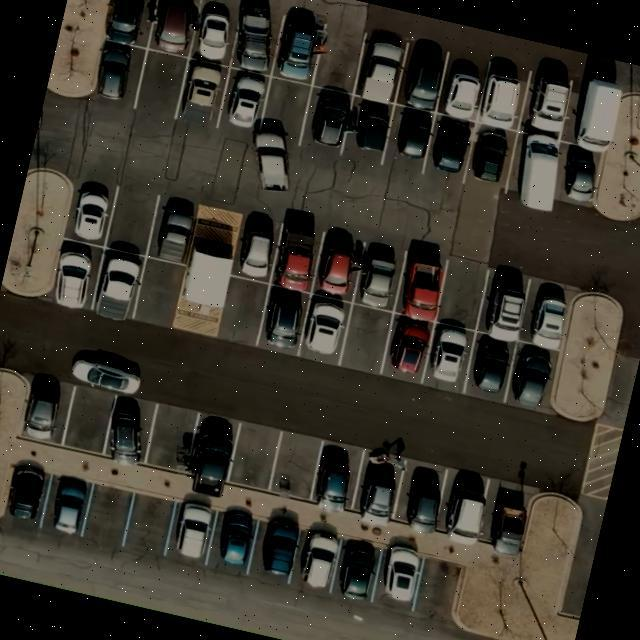space-empty: (140, 402, 200, 482), (308, 18, 369, 96), (264, 430, 326, 501), (102, 180, 160, 255), (434, 256, 492, 330), (338, 302, 396, 374), (256, 76, 312, 150), (132, 49, 188, 122), (119, 490, 176, 560), (61, 383, 116, 455), (214, 274, 270, 344), (409, 556, 465, 624), (132, 256, 186, 325), (80, 481, 134, 550), (227, 423, 280, 493)
space-occupied: (561, 69, 625, 152), (504, 130, 568, 211), (434, 468, 496, 550), (516, 62, 580, 140), (267, 214, 326, 294), (268, 10, 330, 86), (348, 236, 409, 312), (390, 458, 450, 535), (182, 411, 242, 488), (223, 0, 284, 75), (356, 28, 412, 108), (87, 247, 148, 320), (305, 438, 365, 512), (283, 530, 348, 598), (348, 448, 406, 524), (294, 292, 354, 365), (474, 58, 534, 131), (482, 476, 538, 554), (372, 540, 431, 614), (474, 267, 532, 342), (228, 209, 286, 284), (174, 58, 232, 132), (328, 532, 384, 608), (247, 512, 306, 584), (392, 40, 450, 112), (86, 38, 146, 107), (310, 235, 370, 304), (394, 246, 449, 321), (420, 320, 477, 392), (48, 238, 105, 310), (100, 394, 157, 466), (422, 113, 478, 186), (206, 505, 262, 578), (66, 175, 120, 250), (461, 122, 518, 192), (517, 277, 574, 347), (380, 313, 437, 382), (255, 284, 310, 354), (434, 52, 489, 122), (187, 0, 244, 67), (17, 373, 70, 445), (461, 334, 517, 402), (40, 472, 96, 540), (146, 197, 202, 265), (166, 496, 220, 566), (299, 86, 355, 152), (552, 143, 606, 210), (217, 67, 270, 135), (504, 344, 557, 412), (382, 104, 434, 173), (145, 0, 203, 59), (343, 98, 394, 162), (2, 463, 52, 526), (101, 0, 156, 47)
